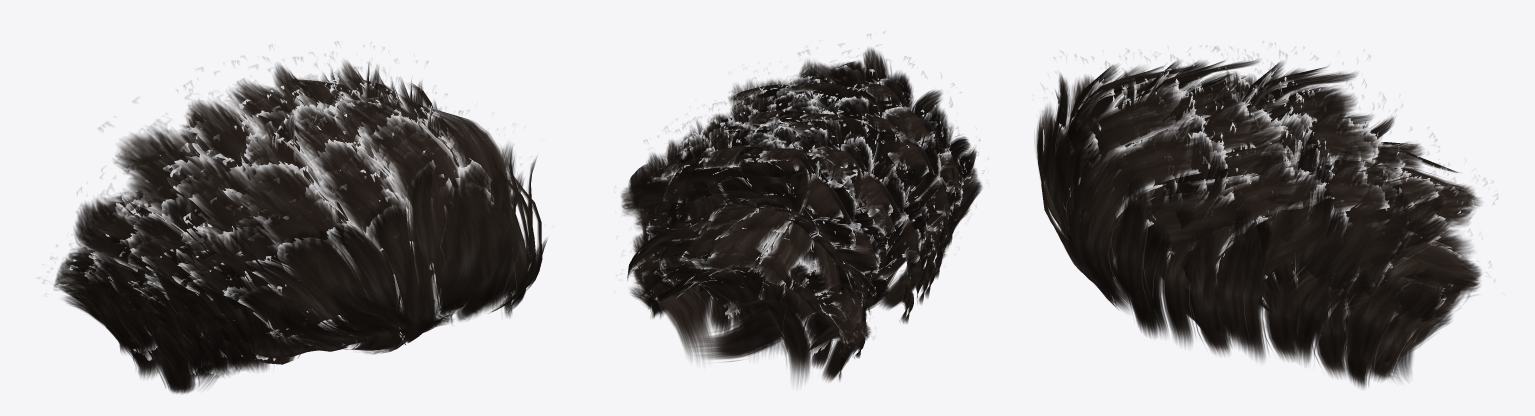
The model's file is spikkyyyy.glb.
3 views of the same model, side by side, from view 1: azimuth 30°, elevation 25°; view 2: azimuth 150°, elevation 25°; view 3: azimuth 270°, elevation 25° (orthographic). The views are drawn at different scales.
Parts seen in each view (by area): view 1: SPIKY CUT; view 2: SPIKY CUT; view 3: SPIKY CUT.
Part boxes in pixels (box(x1,y1,x2,y2)): SPIKY CUT: box(54, 42, 547, 393); SPIKY CUT: box(621, 34, 982, 384); SPIKY CUT: box(1034, 46, 1497, 388).
Size of the model in its own units: 0.246 by 0.2024 by 0.2596.
Materials: 1 (1 with a texture image).
